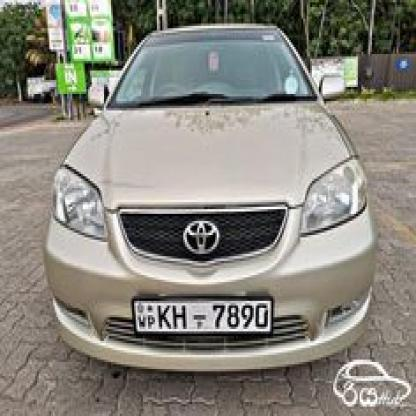car front: (44, 15, 383, 372)
number plate: (134, 301, 271, 332)
